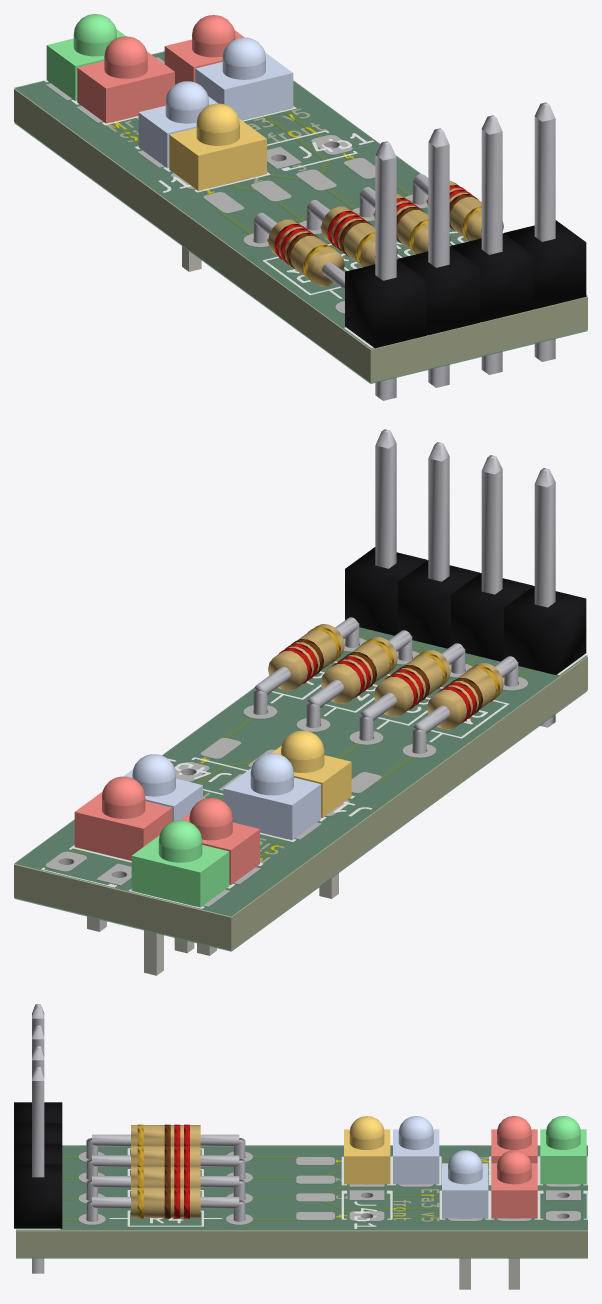
File: MrJ-DB-Era3-breadboard-exit.glb
The picture shows the model from 3 angles, top to bottom: view 1: azimuth 30°, elevation 25°; view 2: azimuth 150°, elevation 25°; view 3: azimuth 270°, elevation 25°; orthographic projection. The views are drawn at different scales.
Parts seen in each view (by area): view 1: =>[0:1:1:19], =>[0:1:1:3] (×4), =>[0:1:1:17], =>[0:1:1:5] (×4), =>[0:1:1:13] (×2), =>[0:1:1:7] (×2), =>[0:1:1:11], =>[0:1:1:15], =>[0:1:1:9], =>[0:1:1:16], =>[0:1:1:14], =>[0:1:1:18]; view 2: =>[0:1:1:19], =>[0:1:1:3] (×4), =>[0:1:1:17], =>[0:1:1:5] (×4), =>[0:1:1:7] (×2), =>[0:1:1:13] (×2), =>[0:1:1:9], =>[0:1:1:15], =>[0:1:1:11], =>[0:1:1:16], =>[0:1:1:14], =>[0:1:1:18]; view 3: =>[0:1:1:19], =>[0:1:1:17], =>[0:1:1:5] (×4), =>[0:1:1:3] (×4), =>[0:1:1:13] (×2), =>[0:1:1:7] (×2), =>[0:1:1:15], =>[0:1:1:11], =>[0:1:1:9], =>[0:1:1:16], =>[0:1:1:18], =>[0:1:1:14].
Boxes of the visible parts, <box> form: =>[0:1:1:19]: <box>14,53,587,382</box>; =>[0:1:1:3] (×4): <box>345,102,586,400</box>; =>[0:1:1:17]: <box>14,51,587,348</box>; =>[0:1:1:5] (×4): <box>253,174,503,289</box>; =>[0:1:1:13] (×2): <box>138,37,293,168</box>; =>[0:1:1:7] (×2): <box>77,15,243,123</box>; =>[0:1:1:11]: <box>169,103,266,271</box>; =>[0:1:1:15]: <box>46,57,427,313</box>; =>[0:1:1:9]: <box>46,14,125,100</box>; =>[0:1:1:16]: <box>43,50,586,347</box>; =>[0:1:1:14]: <box>112,111,412,234</box>; =>[0:1:1:18]: <box>14,123,587,383</box>; =>[0:1:1:19]: <box>14,628,587,950</box>; =>[0:1:1:3] (×4): <box>345,429,586,727</box>; =>[0:1:1:17]: <box>14,627,587,916</box>; =>[0:1:1:5] (×4): <box>253,617,518,753</box>; =>[0:1:1:7] (×2): <box>74,776,259,953</box>; =>[0:1:1:13] (×2): <box>123,753,320,839</box>; =>[0:1:1:9]: <box>131,820,229,975</box>; =>[0:1:1:15]: <box>45,638,528,906</box>; =>[0:1:1:11]: <box>272,730,351,898</box>; =>[0:1:1:16]: <box>41,654,586,908</box>; =>[0:1:1:14]: <box>75,630,532,860</box>; =>[0:1:1:18]: <box>14,690,587,951</box>; =>[0:1:1:19]: <box>16,1147,587,1257</box>; =>[0:1:1:17]: <box>16,1145,587,1230</box>; =>[0:1:1:5] (×4): <box>86,1124,245,1221</box>; =>[0:1:1:3] (×4): <box>14,1004,62,1273</box>; =>[0:1:1:13] (×2): <box>393,1116,488,1289</box>; =>[0:1:1:7] (×2): <box>491,1116,537,1289</box>; =>[0:1:1:15]: <box>78,1152,580,1224</box>; =>[0:1:1:11]: <box>344,1116,390,1184</box>; =>[0:1:1:9]: <box>540,1116,586,1184</box>; =>[0:1:1:16]: <box>16,1148,587,1229</box>; =>[0:1:1:18]: <box>16,1257,587,1258</box>; =>[0:1:1:14]: <box>63,1156,546,1220</box>.
Bounding box in the file's own units: 0.0104 × 0.0127 × 0.0297.
